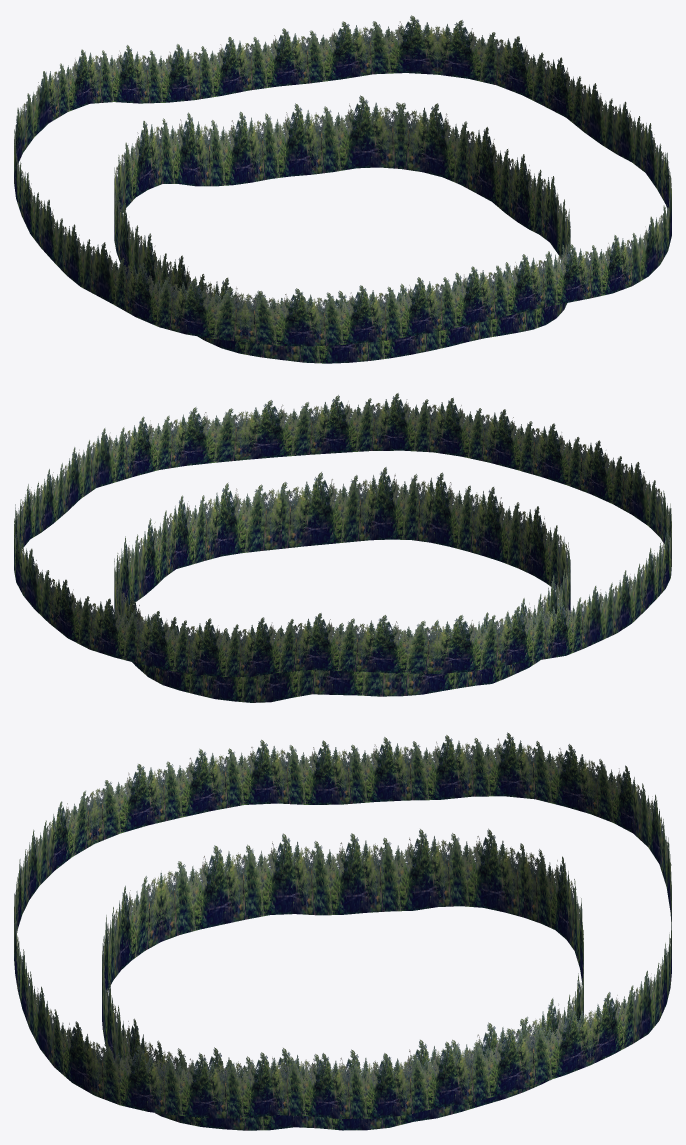
File: ForestGenericBG.glb
3 renders of one model, top to bottom at view 1: azimuth 30°, elevation 25°; view 2: azimuth 150°, elevation 25°; view 3: azimuth 270°, elevation 25°, orthographic. The views are drawn at different scales.
Visible parts, largest first — view 1: ForestBG; view 2: ForestBG; view 3: ForestBG.
Part boxes in pixels (bbox=[...]): ForestBG: bbox=[14, 15, 671, 363]; ForestBG: bbox=[14, 393, 671, 702]; ForestBG: bbox=[14, 732, 671, 1130].
Bounding box in the file's own units: 118 × 33.47 × 109.
1 material, 1 textured.
